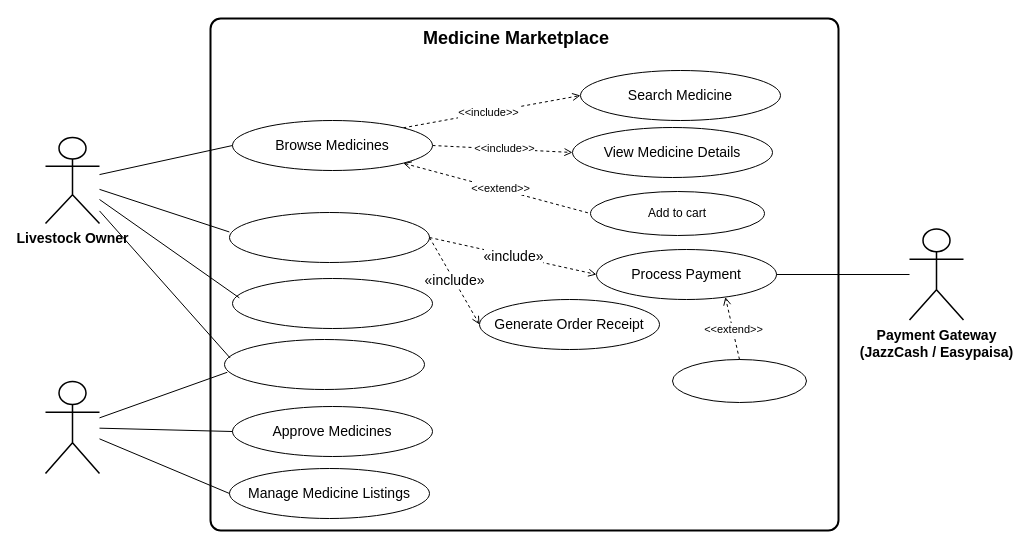
The diagram is 1030 pixels wide and 548 high, and some of its shapes have lost their labels. Each missing label, with the box of its shape:
Administrator: (44, 380, 100, 474)
Handle failure payment: (672, 358, 806, 402)
Place Medicine Order: (228, 212, 430, 262)
Track Order: (232, 278, 432, 328)
View Order History: (224, 338, 424, 390)
